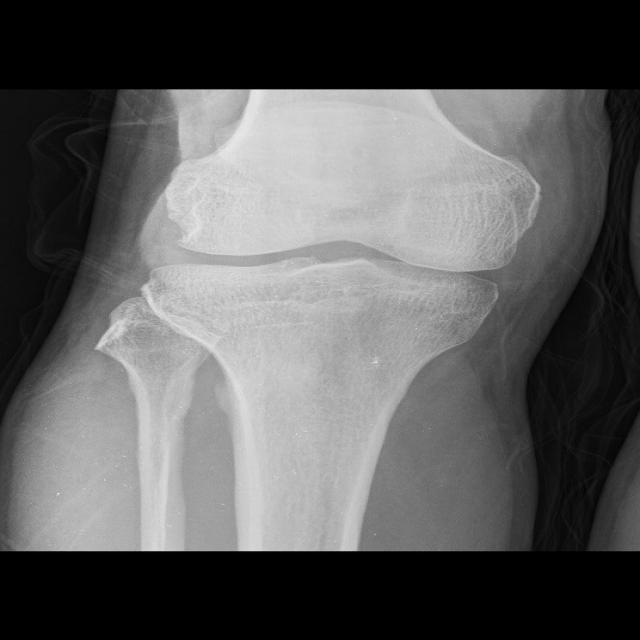normal: (163, 165, 539, 330)
